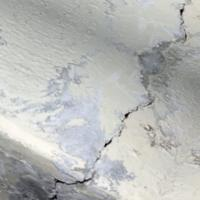crack: (38, 5, 192, 200)
